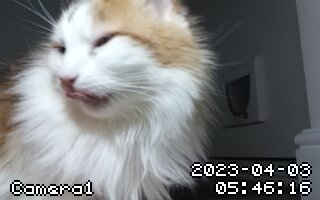clara: (8, 6, 214, 194)
